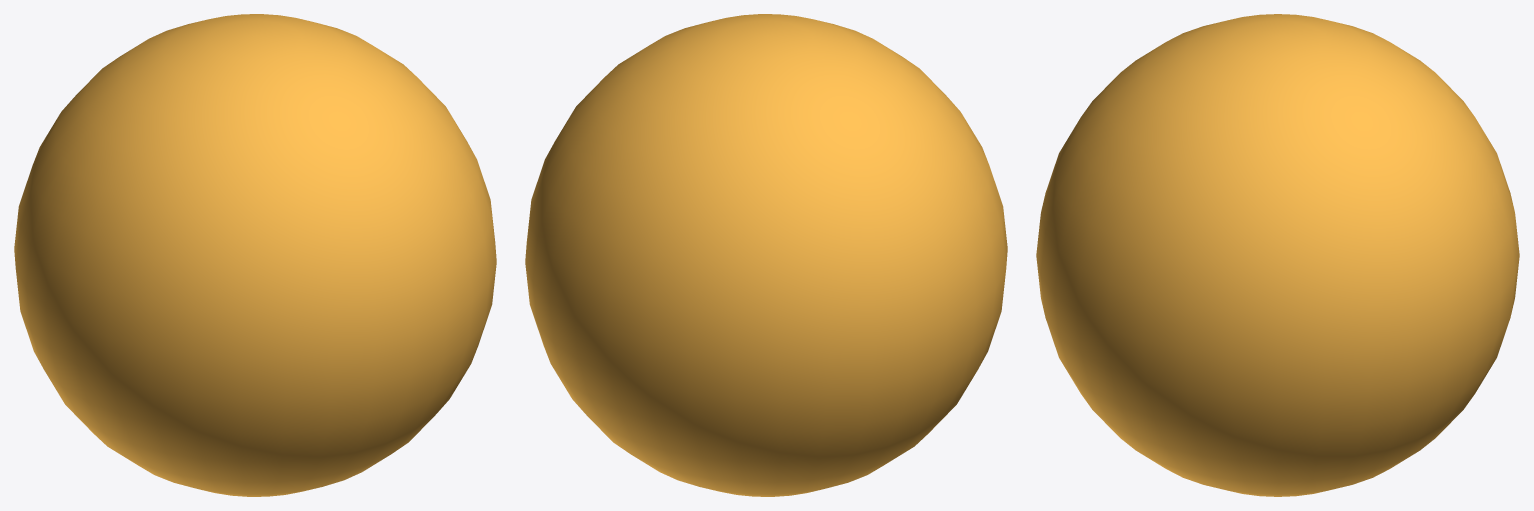
The model's file is handgun-pickup.glb.
3 renders of one model, left to right at view 1: azimuth 30°, elevation 25°; view 2: azimuth 150°, elevation 25°; view 3: azimuth 270°, elevation 25°, orthographic.
Parts seen in each view (by area): view 1: Pickup_Bubble.008; view 2: Pickup_Bubble.008; view 3: Pickup_Bubble.008.
Boxes of the visible parts, box(x1,y1,x2,y2) form: Pickup_Bubble.008: box(14, 14, 496, 496); Pickup_Bubble.008: box(525, 14, 1007, 496); Pickup_Bubble.008: box(1036, 14, 1519, 496).
Size of the model in its own units: 1 by 1 by 1.
